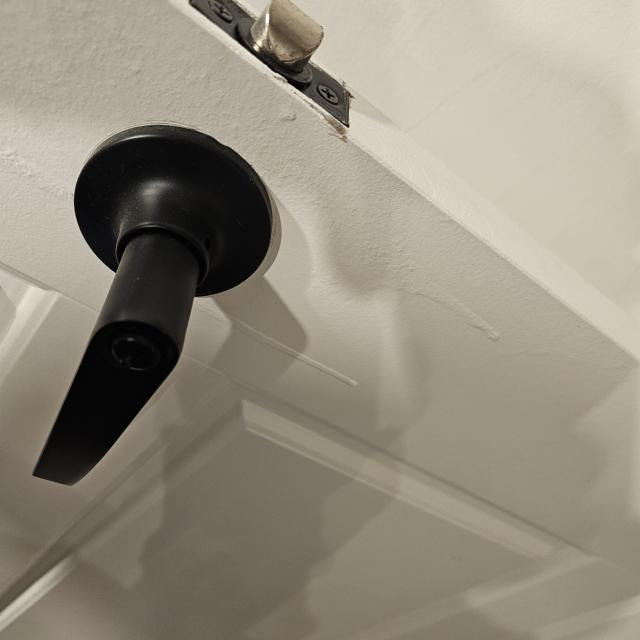door-handle: (34, 124, 272, 485)
